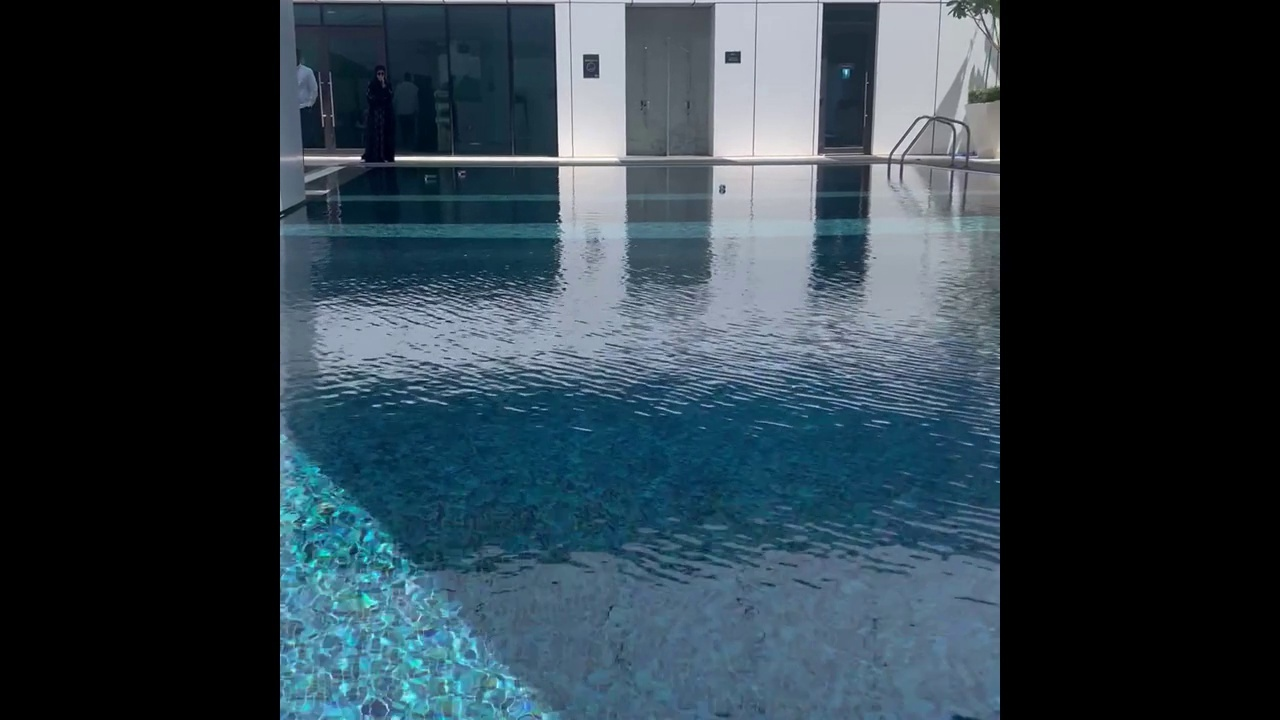debris: (418, 172, 440, 184), (452, 169, 470, 181), (717, 183, 728, 192)
